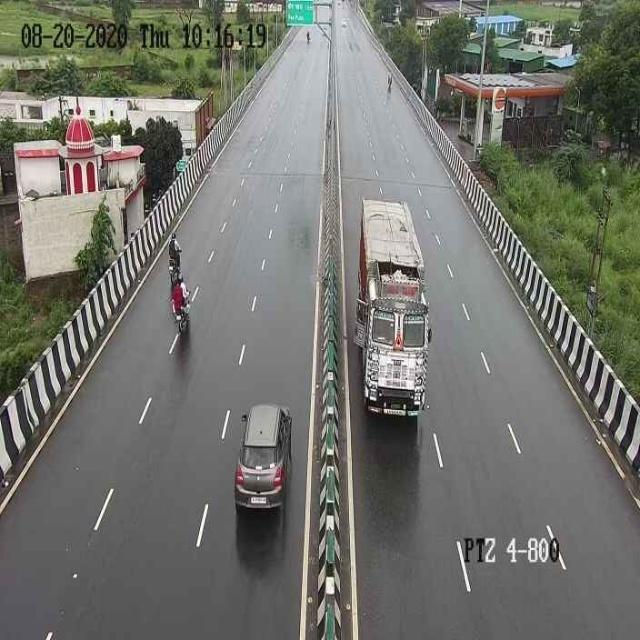car: (227, 396, 292, 525)
